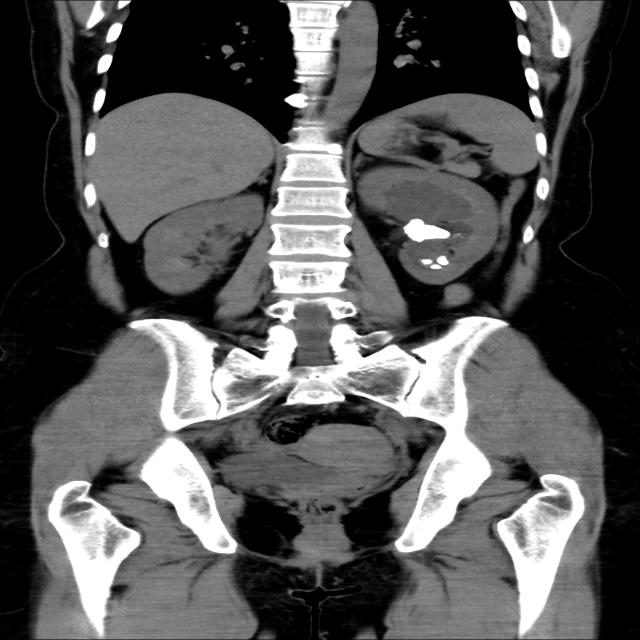kidneystone: (403, 219, 449, 242), (420, 255, 449, 270)
